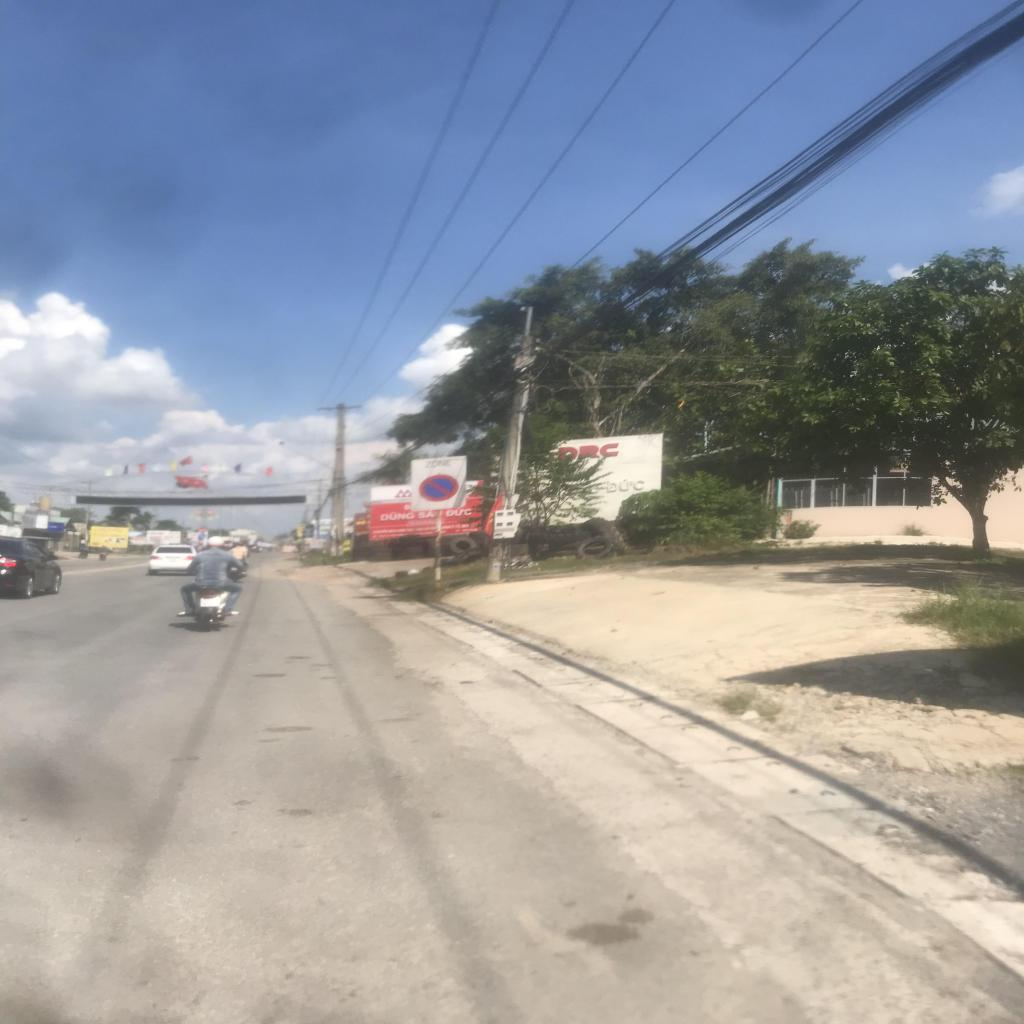cam_do_xe: (420, 475, 460, 500)
